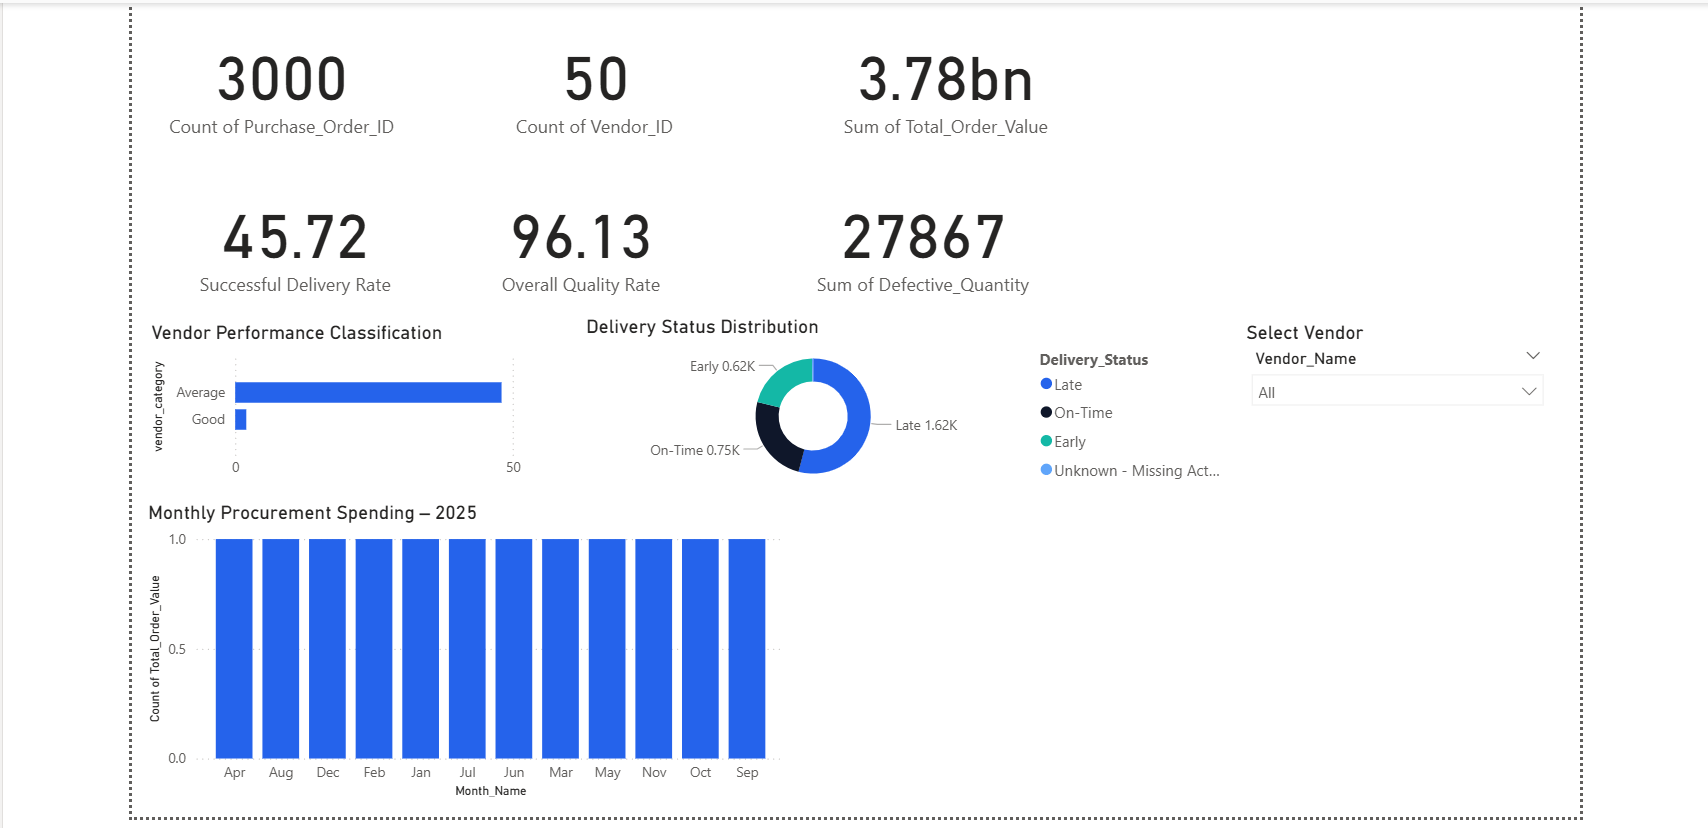

The page's visual inventory and layout, read from the dashboard file:
{"tool":"powerbi","page":{"name":"Executive Overview page","canvas":[1280,720],"ordinal":0},"visuals":[{"type":"card","fields":{"Values":["Count(vendor_purchase_orders_cleaned.Purchase_Order_ID)"]},"box":[10,0,243,139.4],"z":0},{"type":"card","fields":{"Values":["Count(vendor_performance_scorecard.Vendor_ID)"]},"box":[276.9,0,262.9,139.4],"z":1000},{"type":"card","fields":{"Values":["Sum(vendor_purchase_orders_cleaned.Total_Order_Value)"]},"box":[581.6,0,276.9,139.4],"z":2000},{"type":"card","fields":{"Values":["monthly_procurement_analysis.Successful Delivery Rate"]},"box":[10,139.4,266.9,141.4],"z":3000},{"type":"card","fields":{"Values":["monthly_procurement_analysis.Overall Quality Rate"]},"box":[253,139.4,286.8,141.4],"z":4000},{"type":"card","fields":{"Values":["Sum(vendor_purchase_orders_cleaned.Defective_Quantity)"]},"box":[539.8,139.4,318.7,141.4],"z":5000},{"type":"clusteredColumnChart","title":"Monthly Procurement Spending – 2025","fields":{"Category":["monthly_procurement_analysis.Month_Name"],"Y":["CountNonNull(monthly_procurement_analysis.Total_Order_Value)"]},"box":[9.4,440.3,572.6,266.5],"z":6000},{"type":"clusteredBarChart","title":"Vendor Performance Classification","fields":{"Category":["vendor_performance_scorecard.vendor_category"],"Y":["CountNonNull(vendor_performance_scorecard.Vendor_ID)"]},"box":[11.3,281.6,385.5,147.4],"z":7000},{"type":"donutChart","title":"Delivery Status Distribution","fields":{"Category":["vendor_purchase_orders_cleaned.Delivery_Status"],"Y":["CountNonNull(vendor_purchase_orders_cleaned.Purchase_Order_ID)"]},"box":[396.9,275.9,583.9,158.7],"z":8000},{"type":"slicer","title":"Select Vendor","fields":{"Values":["vendor_purchase_orders_cleaned.Vendor_Name"]},"box":[980.8,281.6,277.8,158.7],"z":9001}]}

Visuals, with their boxes on the page's 1280x720 design canvas (x1, y1, x2, y2). These are canvas units, not pixel positions in the 1708x828 screenshot, which may show the page scaled, cropped or inside an application window:
card - Count(vendor_purchase_orders_cleaned.Purchase_Order_ID): 10, 0, 253, 139
card - Count(vendor_performance_scorecard.Vendor_ID): 277, 0, 540, 139
card - Sum(vendor_purchase_orders_cleaned.Total_Order_Value): 582, 0, 858, 139
card - monthly_procurement_analysis.Successful Delivery Rate: 10, 139, 277, 281
card - monthly_procurement_analysis.Overall Quality Rate: 253, 139, 540, 281
card - Sum(vendor_purchase_orders_cleaned.Defective_Quantity): 540, 139, 858, 281
"Monthly Procurement Spending – 2025" clusteredColumnChart: 9, 440, 582, 707
"Vendor Performance Classification" clusteredBarChart: 11, 282, 397, 429
"Delivery Status Distribution" donutChart: 397, 276, 981, 435
"Select Vendor" slicer: 981, 282, 1259, 440
